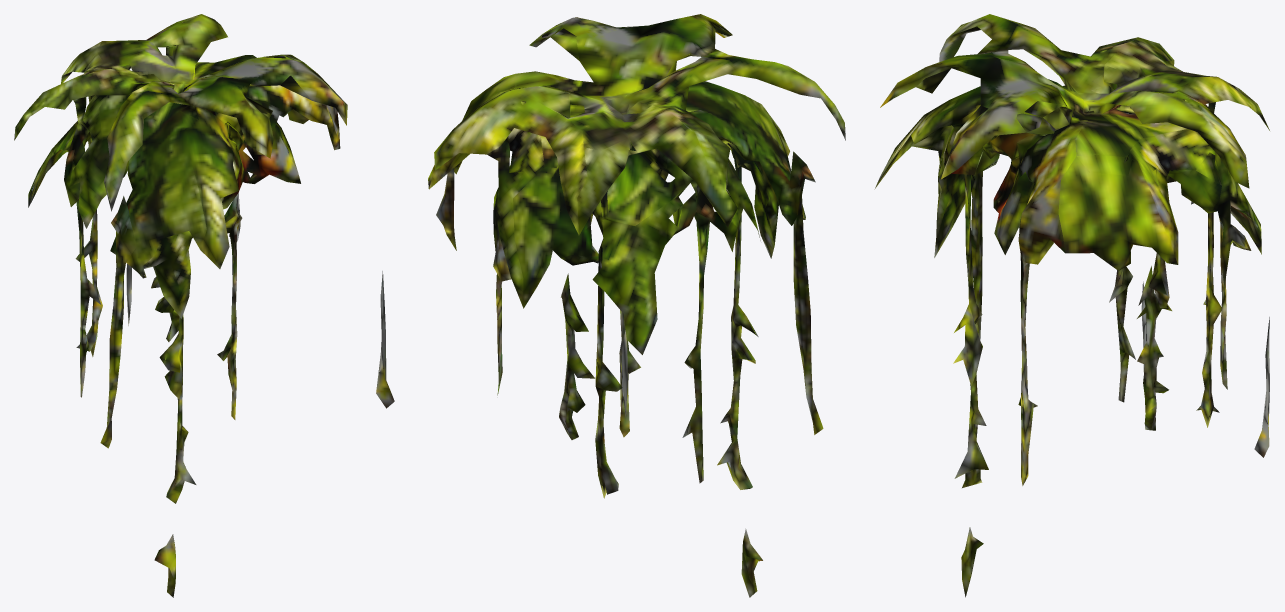
File: SummerDecor_BossRoom_HangingVines.fbx
3 views of the same model, side by side, from view 1: azimuth 30°, elevation 25°; view 2: azimuth 150°, elevation 25°; view 3: azimuth 270°, elevation 25° (orthographic). The views are drawn at different scales.
Parts seen in each view (by area): view 1: SummerDecor_BossRoom_HangingVines_Mesh; view 2: SummerDecor_BossRoom_HangingVines_Mesh; view 3: SummerDecor_BossRoom_HangingVines_Mesh.
Part boxes in pixels (x1,y1,x2,y2): SummerDecor_BossRoom_HangingVines_Mesh: (14,14,347,597); SummerDecor_BossRoom_HangingVines_Mesh: (376,14,845,597); SummerDecor_BossRoom_HangingVines_Mesh: (874,14,1269,597).
Bounding box in the file's own units: 3.56 × 6 × 3.75.
1 material, 1 textured.
